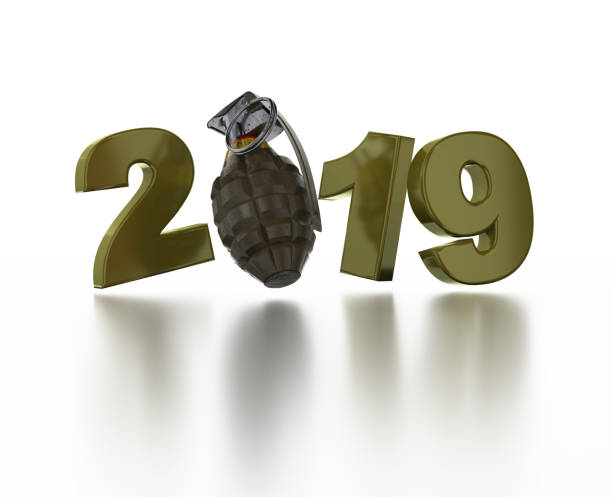e1: (209, 96, 320, 291)
